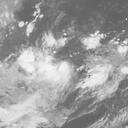cyclone: (38, 58, 74, 90)
